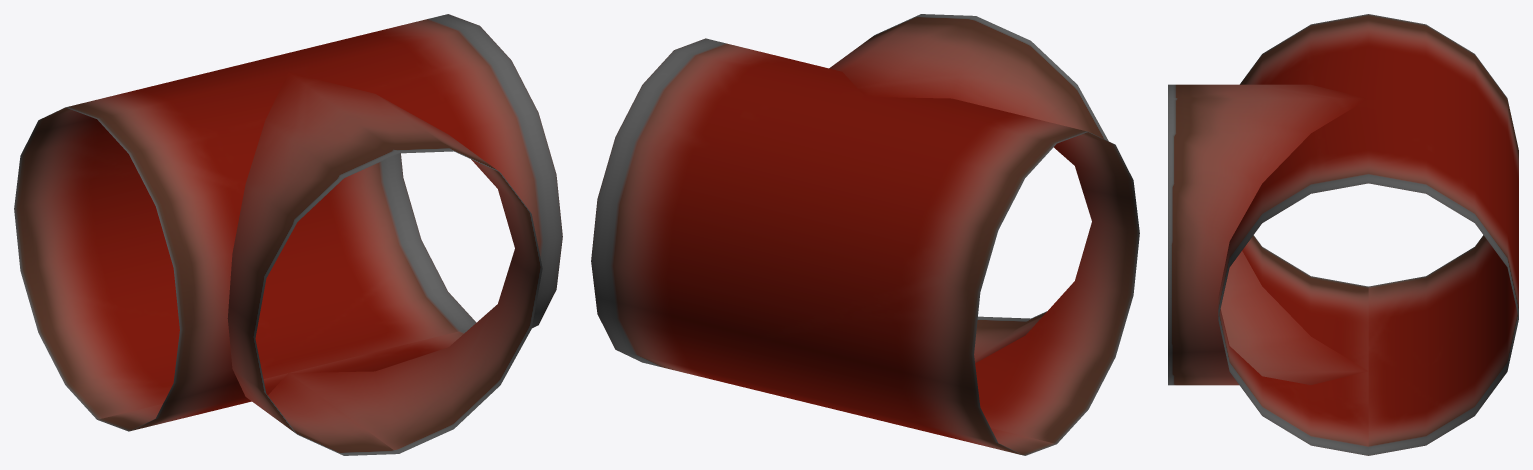
The model's file is pipe01_junction_3way.fbx.
3 views of the same model, side by side, from view 1: azimuth 30°, elevation 25°; view 2: azimuth 150°, elevation 25°; view 3: azimuth 270°, elevation 25° (orthographic). The views are drawn at different scales.
Visible parts, largest first — view 1: pipe01_junction_3way; view 2: pipe01_junction_3way; view 3: pipe01_junction_3way.
Boxes of the visible parts, x1,y1,x2,y2 form: pipe01_junction_3way: (14, 14, 562, 455); pipe01_junction_3way: (591, 14, 1139, 455); pipe01_junction_3way: (1168, 14, 1518, 455).
Size of the model in its own units: 16 by 12 by 14.
